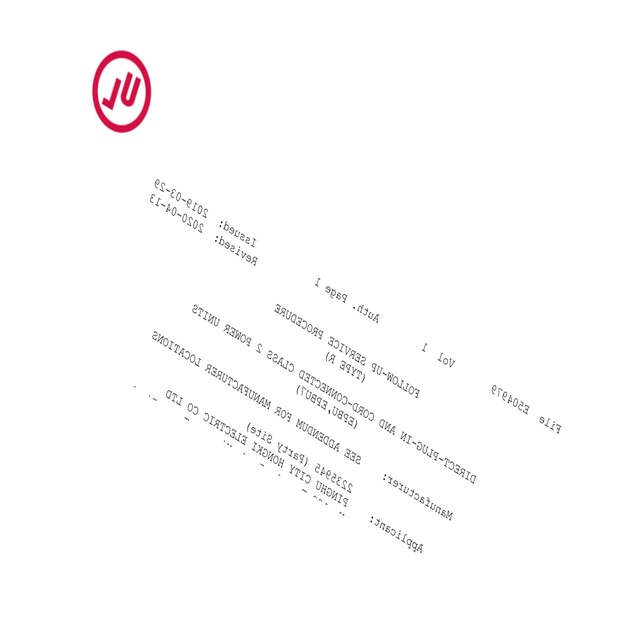ul: (92, 48, 151, 134)
